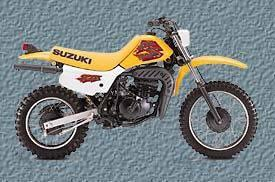motorcycle: (3, 8, 266, 169)
